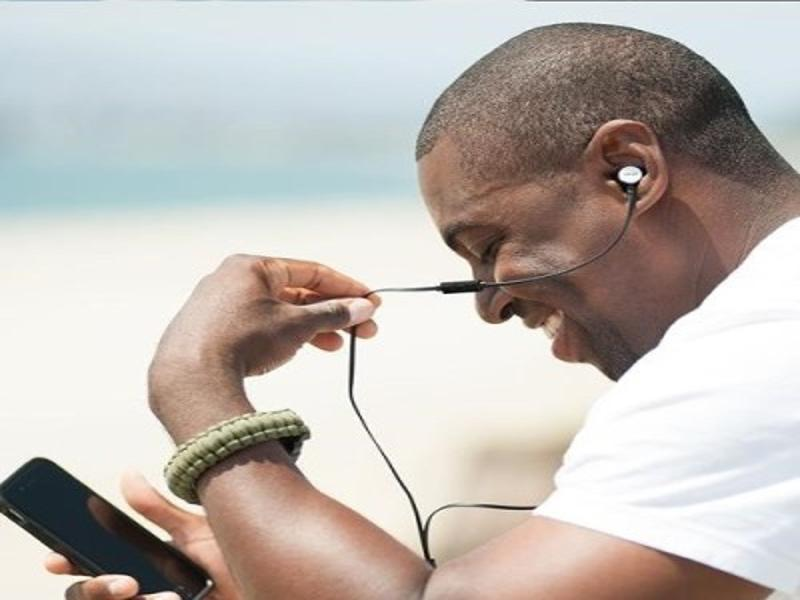headphone: (613, 161, 645, 193)
